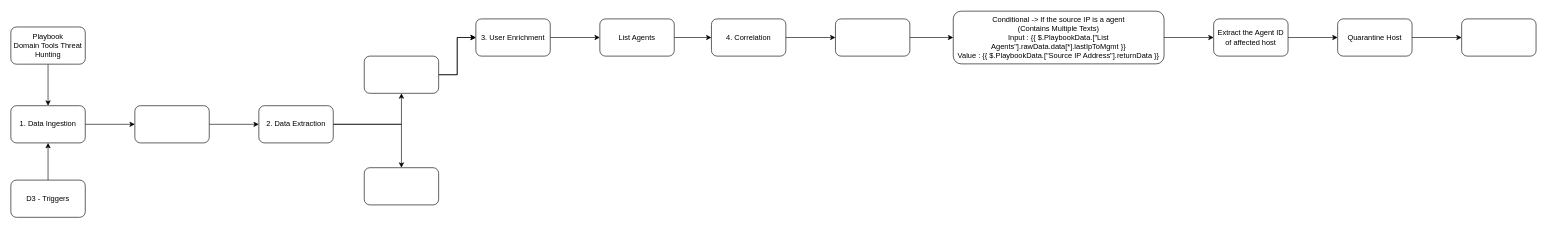
Some shapes in this 1547 by 228 pixel diagram are drawn without their labels. Here are the shapes that lost their labels. From the top down, the centre of each, then its label:
At point (872, 37): "Extract Agent IP Address".
At point (1498, 37): "Incident Close".
At point (401, 74): "Source IP Address".
At point (171, 124): "Qradar Offences (Fetch Incident)".
At point (401, 186): "Destination IP Address".
